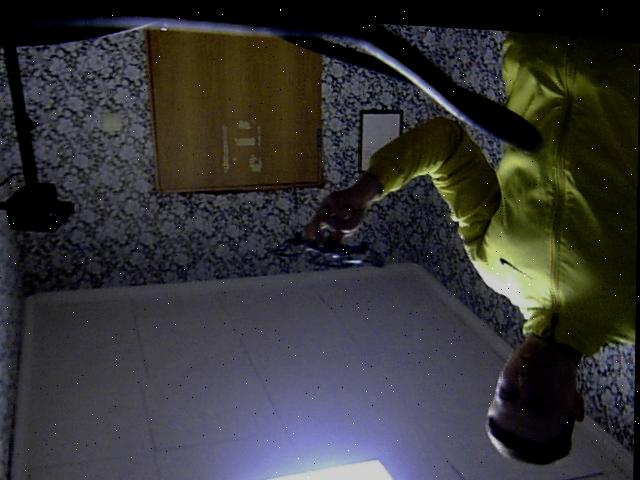drone: (275, 222, 388, 285)
